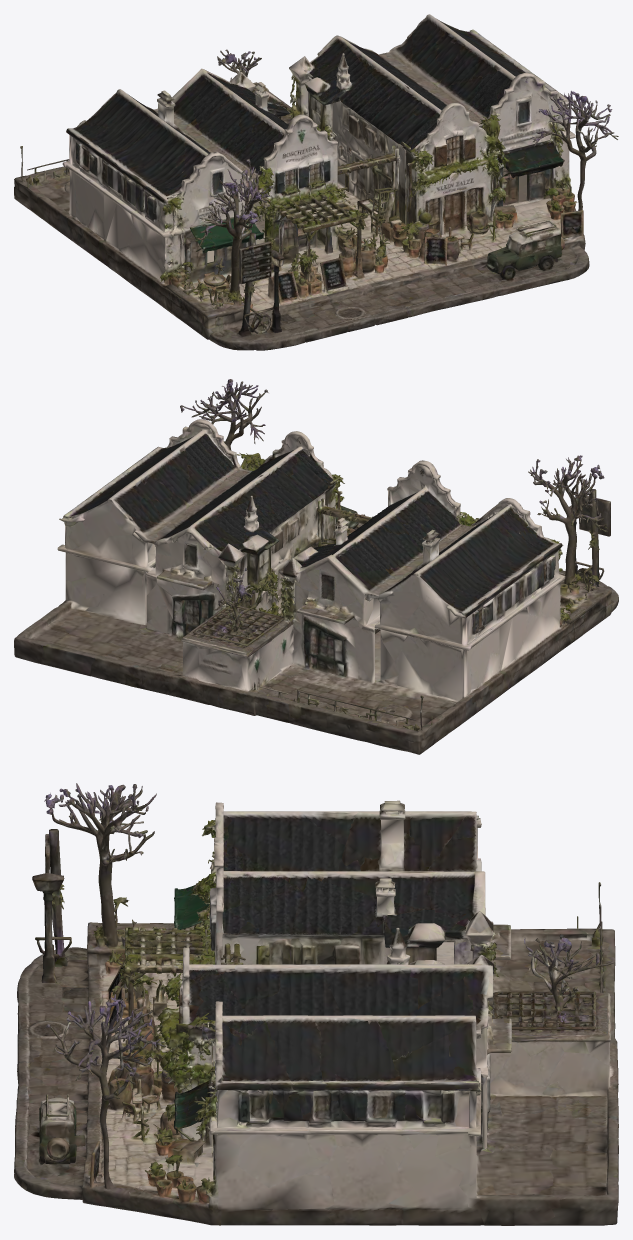
File: stellenbosch-web.glb
3 views of the same model, one above another, from view 1: azimuth 30°, elevation 25°; view 2: azimuth 150°, elevation 25°; view 3: azimuth 270°, elevation 25° (orthographic). The views are drawn at different scales.
Bounding box in the file's own units: 1.85 × 0.6524 × 1.69.
1 material, 1 textured.
